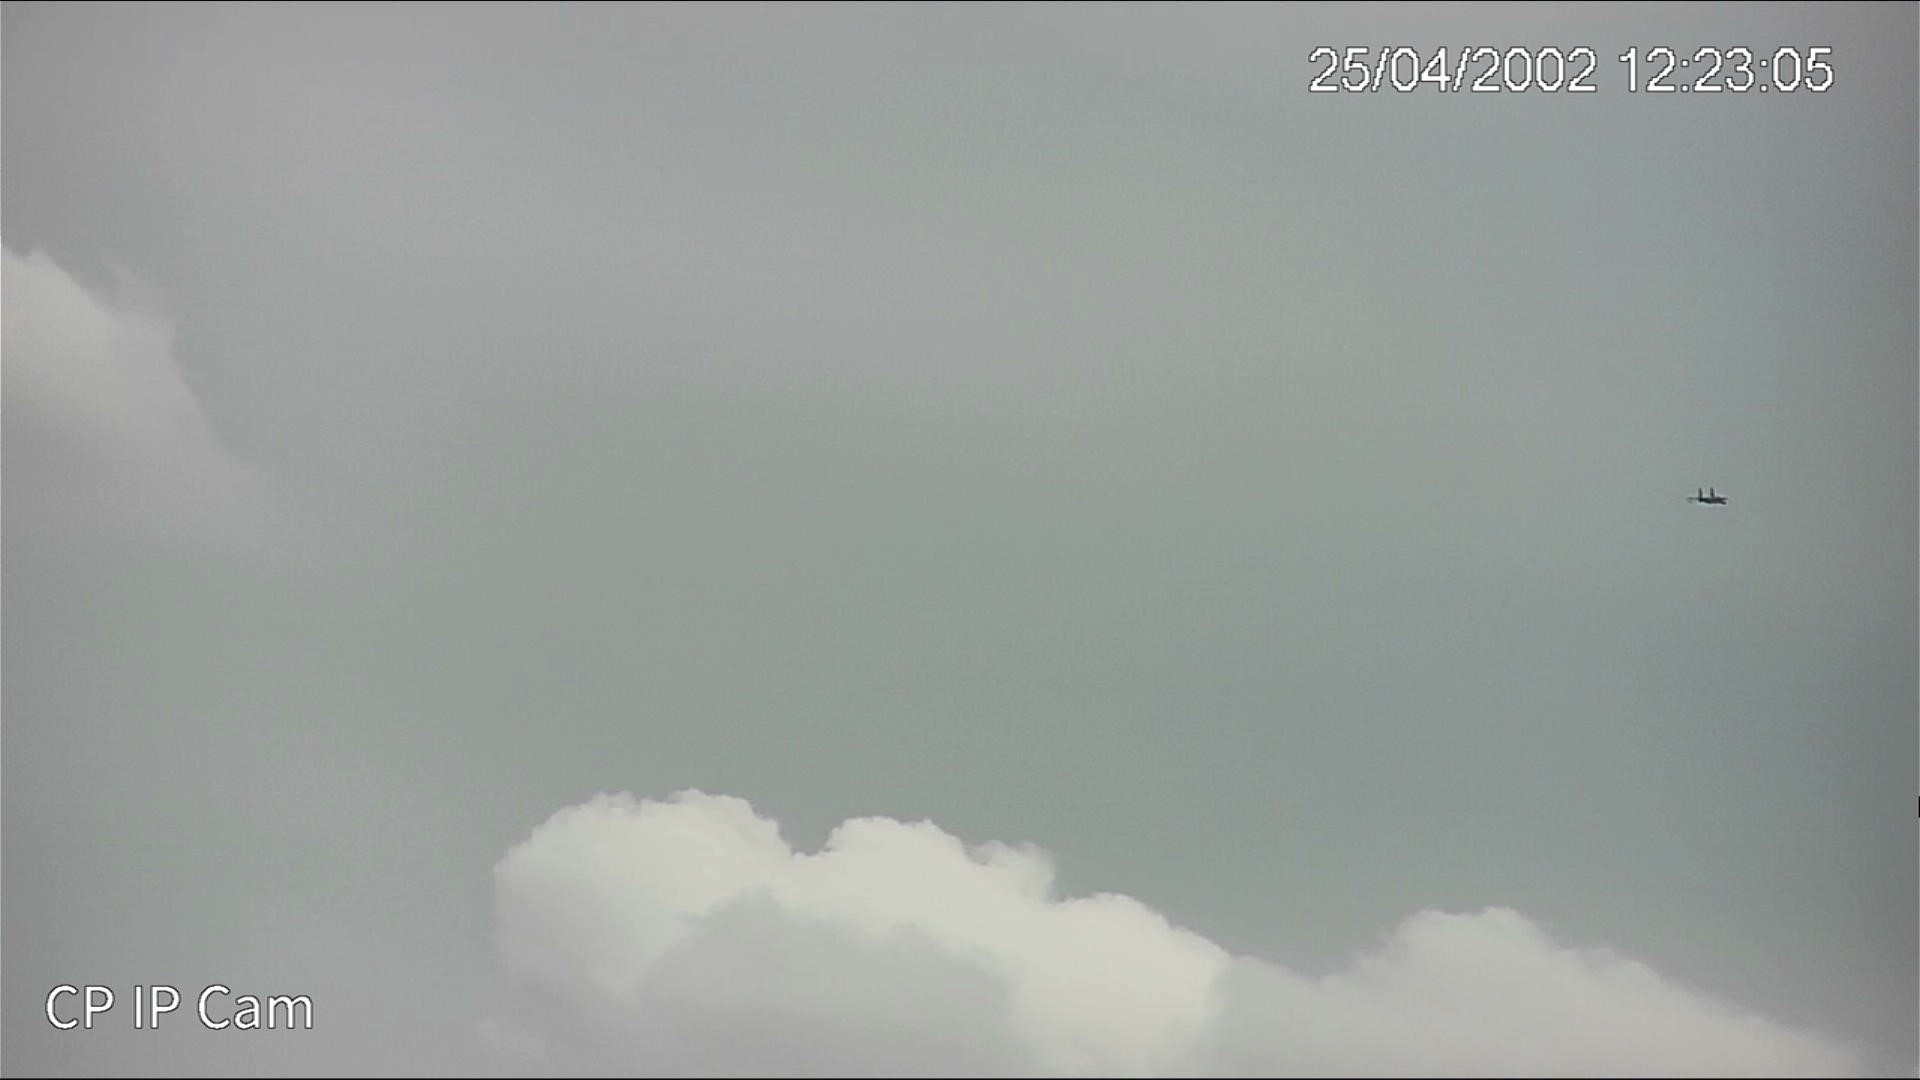SU_30: (1685, 487, 1729, 505)
